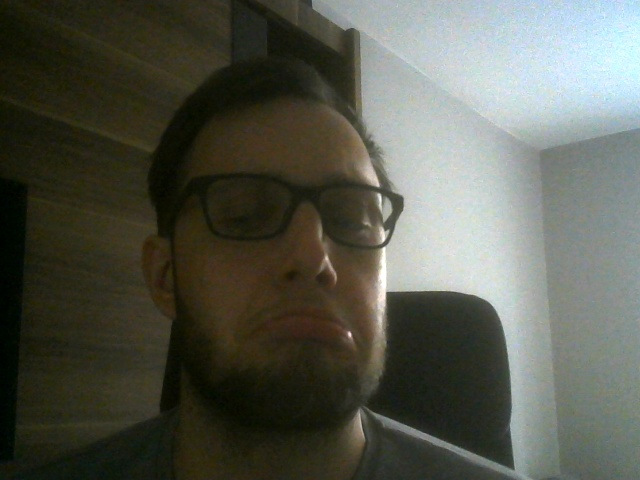neutral: (143, 59, 399, 422)
